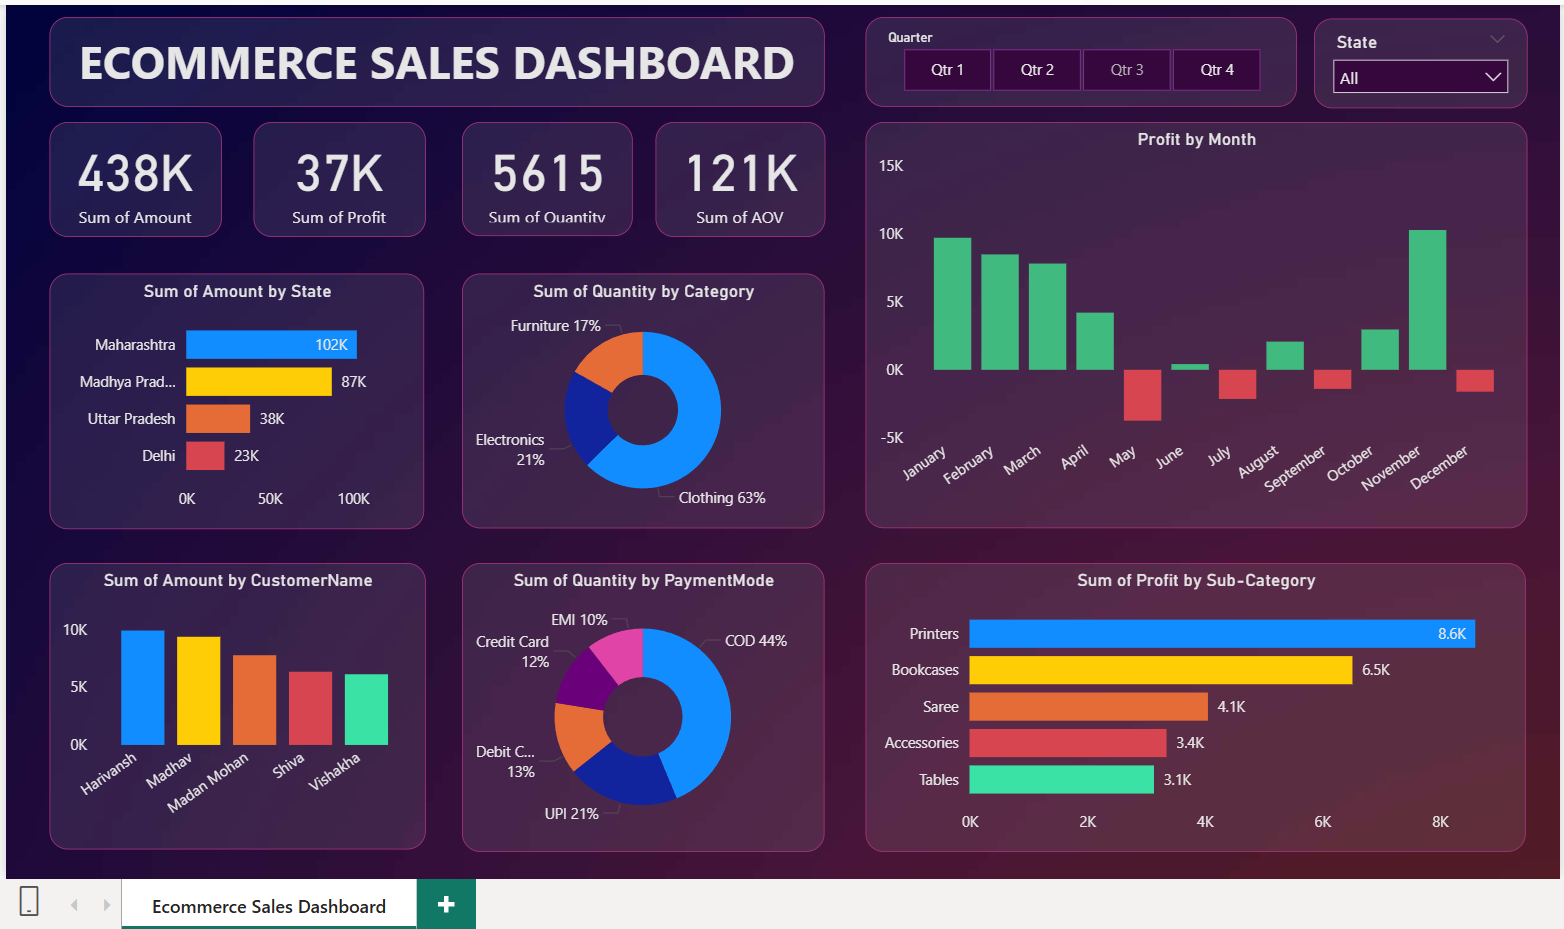

Layout of this report page (visuals, bound fields, positions):
{"tool":"powerbi","page":{"name":"Ecommerce Sales Dashboard","canvas":[1280,720],"ordinal":0},"visuals":[{"type":"textbox","box":[35.9,9.4,638.7,73.7],"z":0},{"type":"columnChart","title":"Profit by Month","fields":{"Category":["Orders.Order Date.Variation.Date Hierarchy.Month"],"Y":["Details.Profit"]},"box":[708.6,96.9,545.1,334.6],"z":1000},{"type":"barChart","fields":{"Category":["Details.Sub-Category"],"Y":["Details.Profit"]},"box":[708.7,459.2,544.3,238.1],"z":2000},{"type":"donutChart","fields":{"Category":["Details.Category"],"Y":["Details.Quantity"]},"box":[376.1,221.1,298.6,209.8],"z":3000},{"type":"donutChart","fields":{"Category":["Details.PaymentMode"],"Y":["Details.Quantity"]},"box":[376.1,459.2,298.6,238.1],"z":4000},{"type":"card","fields":{"Values":["Details.Amount"]},"box":[35.9,96.4,141.7,94.5],"z":5000},{"type":"card","fields":{"Values":["Details.Profit"]},"box":[204.1,96.4,141.7,94.5],"z":6000},{"type":"card","fields":{"Values":["Details.Quantity"]},"box":[375.5,96.9,140.8,93.9],"z":7000},{"type":"card","fields":{"Values":["Details.AOV"]},"box":[534.8,96.4,139.8,94.5],"z":8000},{"type":"barChart","fields":{"Category":["Orders.State"],"Y":["Details.Amount"]},"box":[36.3,221.1,308.9,210.5],"z":10000},{"type":"columnChart","fields":{"Category":["Orders.CustomerName"],"Y":["Details.Amount"]},"box":[35.9,459.2,309.9,236.2],"z":11000},{"type":"slicer","fields":{"Values":["Orders.Order Date.Variation.Date Hierarchy.Quarter"]},"box":[708.7,9.4,355.3,73.7],"z":12000},{"type":"slicer","fields":{"Values":["Orders.State"]},"box":[1077.2,11.3,175.7,73.7],"z":13000}]}

Visuals, with their boxes on the page's 1280x720 design canvas (x1, y1, x2, y2). These are canvas units, not pixel positions in the 1564x929 screenshot, which may show the page scaled, cropped or inside an application window:
textbox: [36, 9, 675, 83]
"Profit by Month" columnChart: [709, 97, 1254, 432]
barChart - Details.Sub-Category x Details.Profit: [709, 459, 1253, 697]
donutChart - Details.Category x Details.Quantity: [376, 221, 675, 431]
donutChart - Details.PaymentMode x Details.Quantity: [376, 459, 675, 697]
card - Details.Amount: [36, 96, 178, 191]
card - Details.Profit: [204, 96, 346, 191]
card - Details.Quantity: [376, 97, 516, 191]
card - Details.AOV: [535, 96, 675, 191]
barChart - Orders.State x Details.Amount: [36, 221, 345, 432]
columnChart - Orders.CustomerName x Details.Amount: [36, 459, 346, 695]
slicer - Orders.Order Date.Variation.Date Hierarchy.Quarter: [709, 9, 1064, 83]
slicer - Orders.State: [1077, 11, 1253, 85]
